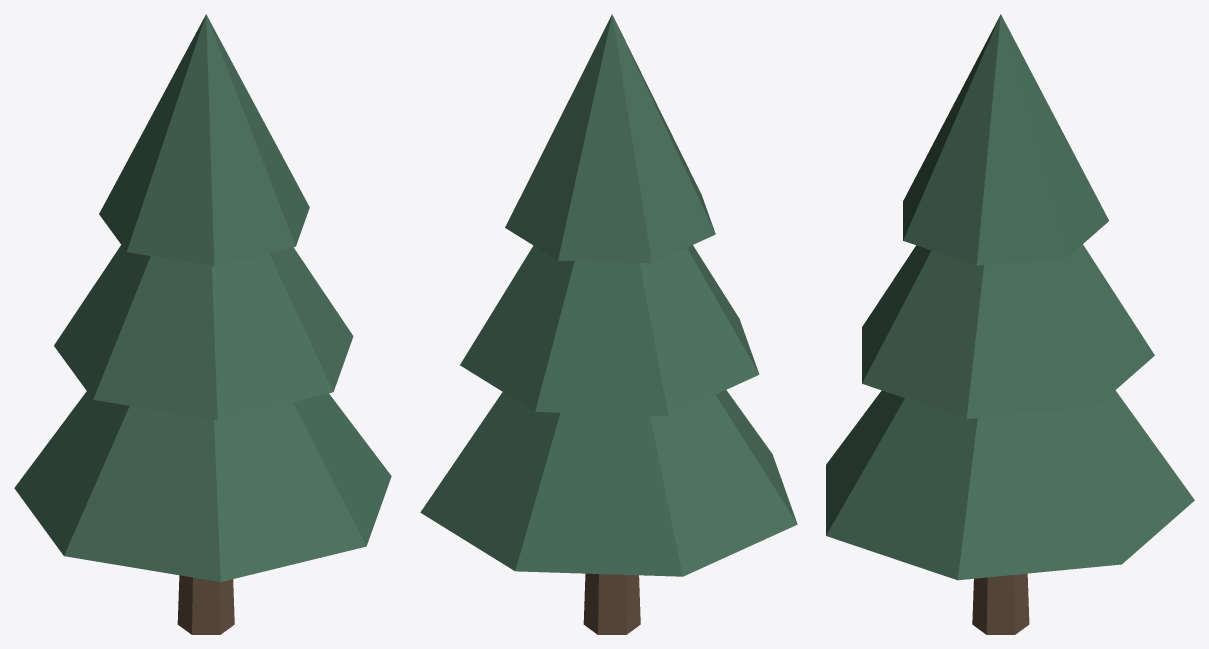
File: pinheiro_alto.glb
The picture shows the model from 3 angles, left to right: view 1: azimuth 30°, elevation 25°; view 2: azimuth 150°, elevation 25°; view 3: azimuth 270°, elevation 25°; orthographic projection.
Parts seen in each view (by area): view 1: pinheiro_alto; view 2: pinheiro_alto; view 3: pinheiro_alto.
Part boxes in pixels (bbox=[...]): pinheiro_alto: bbox=[14, 14, 391, 634]; pinheiro_alto: bbox=[420, 14, 797, 634]; pinheiro_alto: bbox=[826, 14, 1194, 634].
Bounding box in the file's own units: 3.31 × 5.9 × 3.23.
